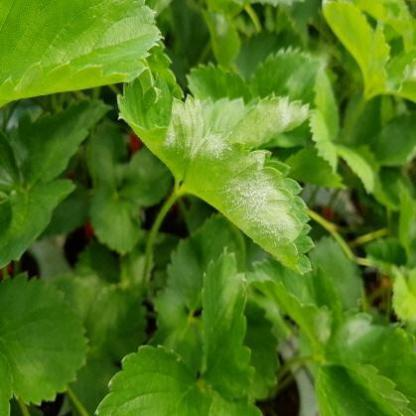Strawberry_Powdery_Mildew_Leaf: (177, 126, 314, 275), (185, 61, 312, 150), (117, 60, 204, 188)
